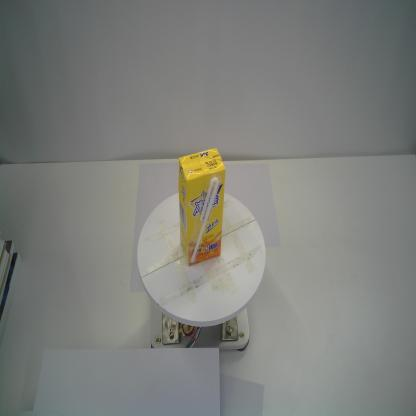Drink: (178, 145, 226, 266)
